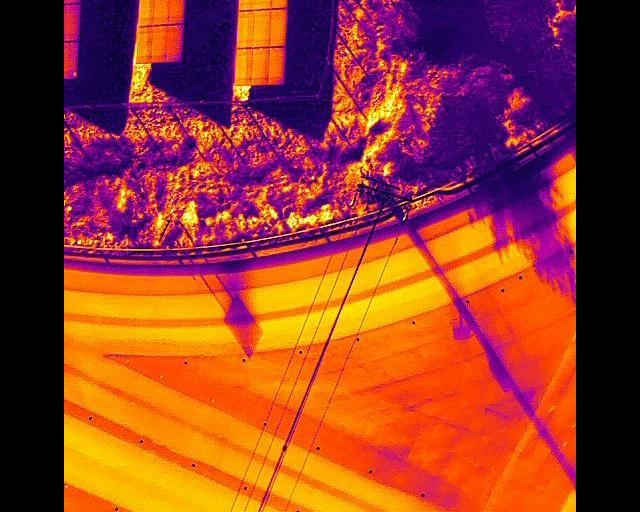Cell: (64, 40, 78, 78)
No-Anomaly: (269, 47, 287, 85), (236, 47, 253, 84), (135, 26, 152, 63), (271, 8, 287, 47), (253, 47, 269, 85), (254, 9, 270, 47), (64, 2, 80, 40), (238, 10, 254, 47), (152, 25, 168, 61), (168, 24, 183, 61), (138, 0, 155, 25), (170, 0, 186, 24), (155, 0, 170, 25), (240, 0, 257, 9), (255, 0, 271, 9), (272, 0, 289, 8)
